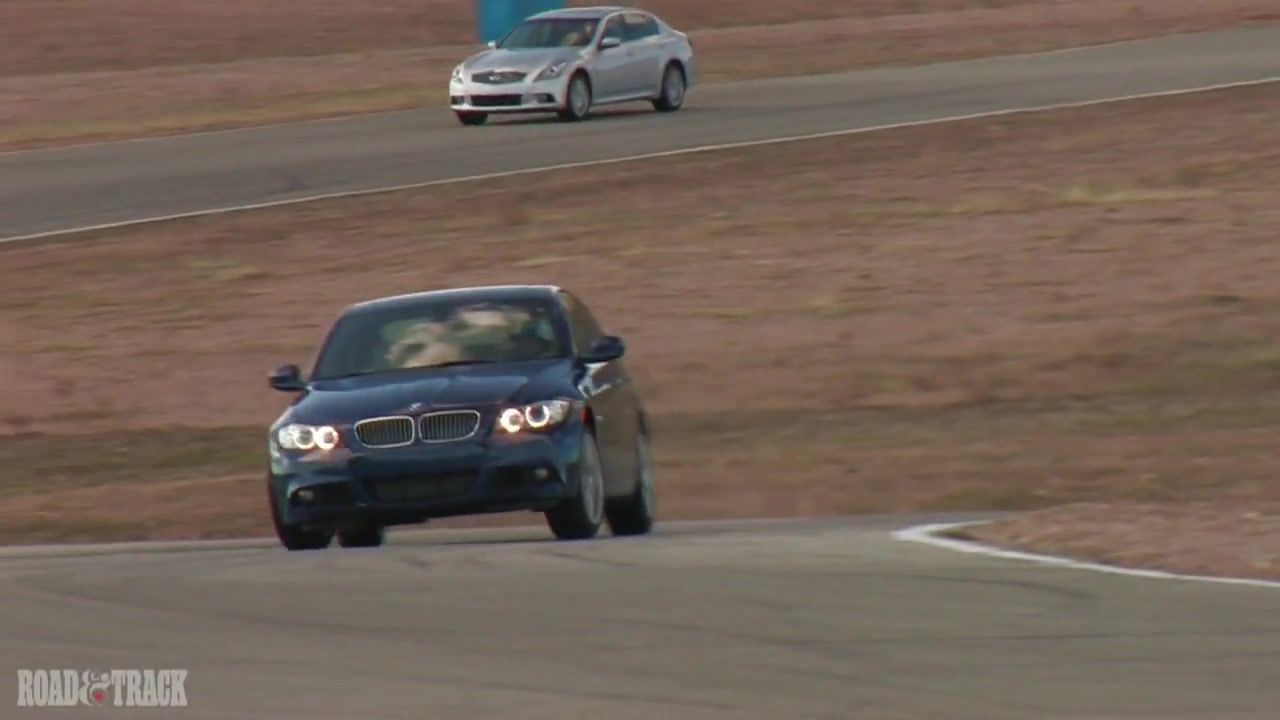car: (263, 292, 657, 547), (444, 4, 701, 127)
